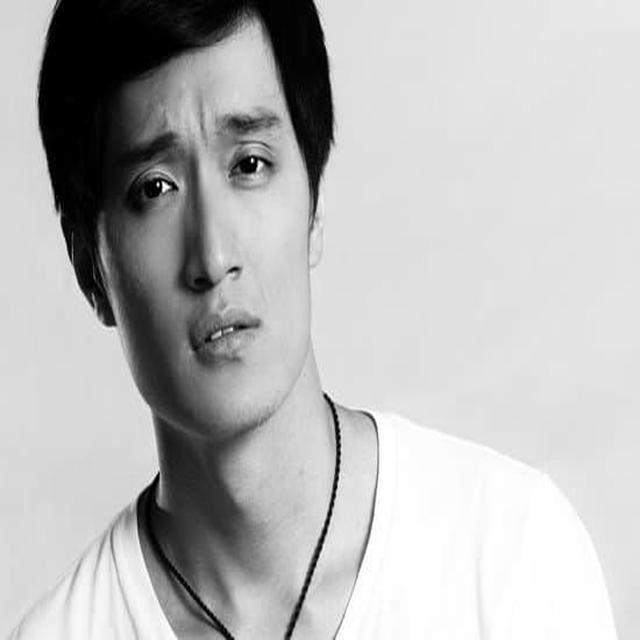Sadness: (107, 37, 310, 436)
